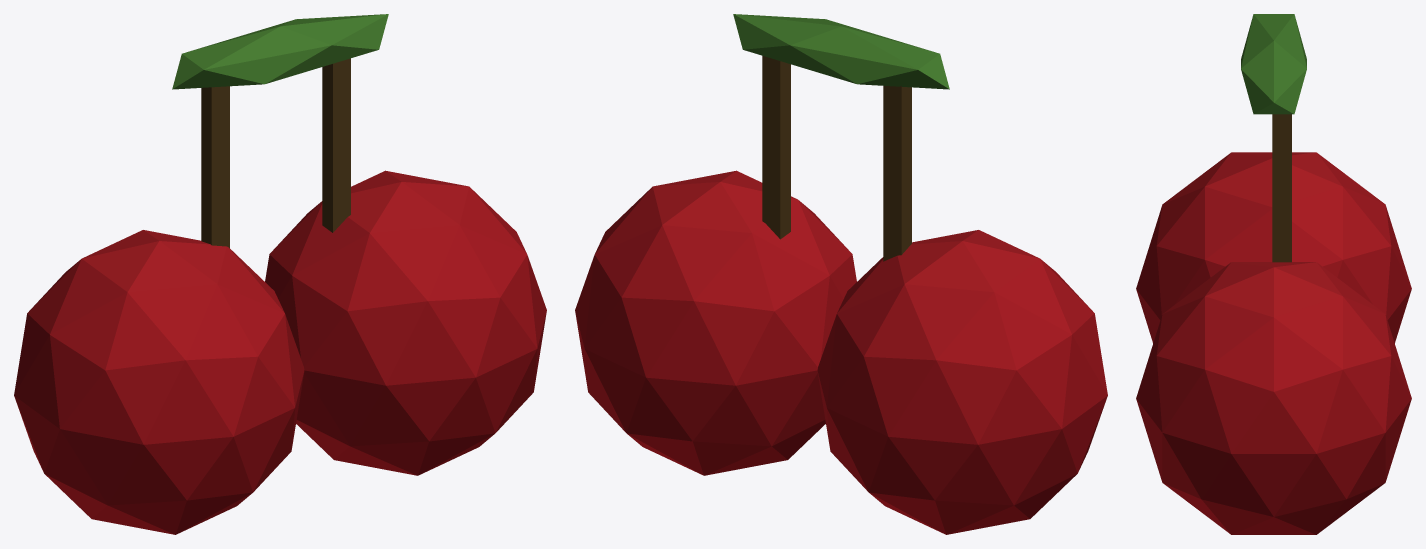
The model's file is Cherries.glb.
3 views of the same model, side by side, from view 1: azimuth 30°, elevation 25°; view 2: azimuth 150°, elevation 25°; view 3: azimuth 270°, elevation 25° (orthographic). The views are drawn at different scales.
Parts seen in each view (by area): view 1: _ITEM_Cherries; view 2: _ITEM_Cherries; view 3: _ITEM_Cherries.
Boxes of the visible parts, x1,y1,x2,y2 form: _ITEM_Cherries: [14, 14, 546, 534]; _ITEM_Cherries: [575, 14, 1107, 534]; _ITEM_Cherries: [1136, 14, 1411, 534].
Bounding box in the file's own units: 0.3217 × 0.2953 × 0.17.
